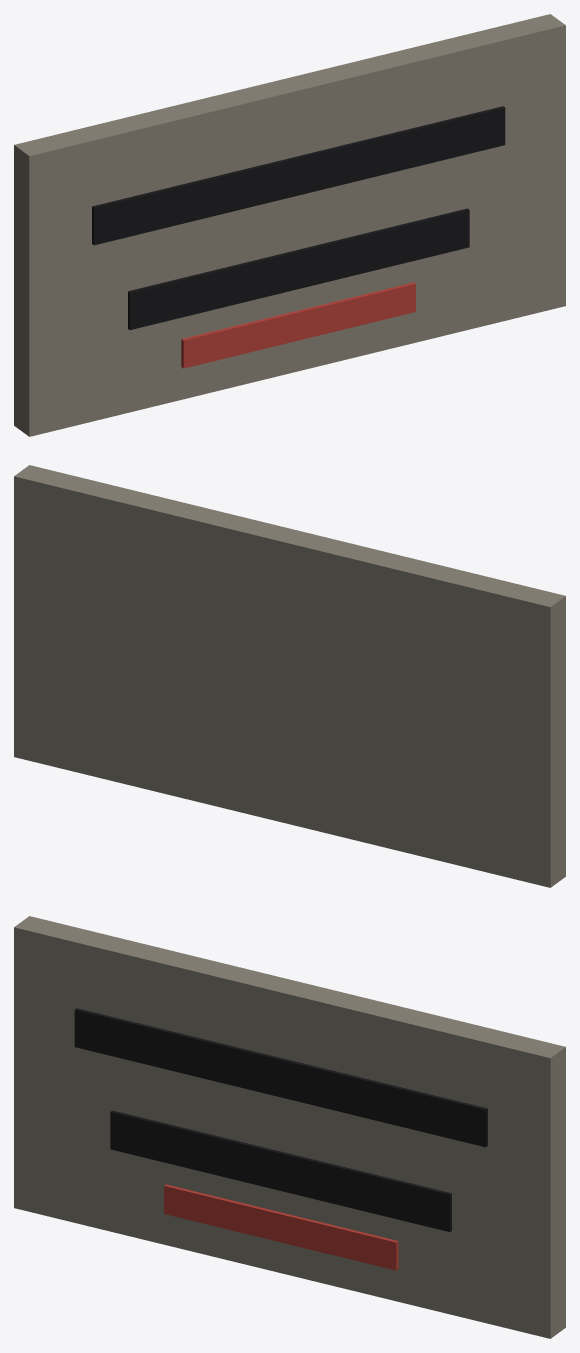
Rendered from GD_HandLetteredSign_01.glb.
The picture shows the model from 3 angles, top to bottom: view 1: azimuth 30°, elevation 25°; view 2: azimuth 150°, elevation 25°; view 3: azimuth 330°, elevation 25°; orthographic projection.
Visible parts, largest first — view 1: GD_HandLetteredSign_01; view 2: GD_HandLetteredSign_01; view 3: GD_HandLetteredSign_01.
Boxes of the visible parts, left/top/right/bottom form: GD_HandLetteredSign_01: left=14, top=14, right=565, bottom=436; GD_HandLetteredSign_01: left=14, top=465, right=565, bottom=887; GD_HandLetteredSign_01: left=14, top=916, right=565, bottom=1338.
Size of the model in its own units: 0.6 by 0.3 by 0.034.
Materials: 1 (1 with a texture image).
